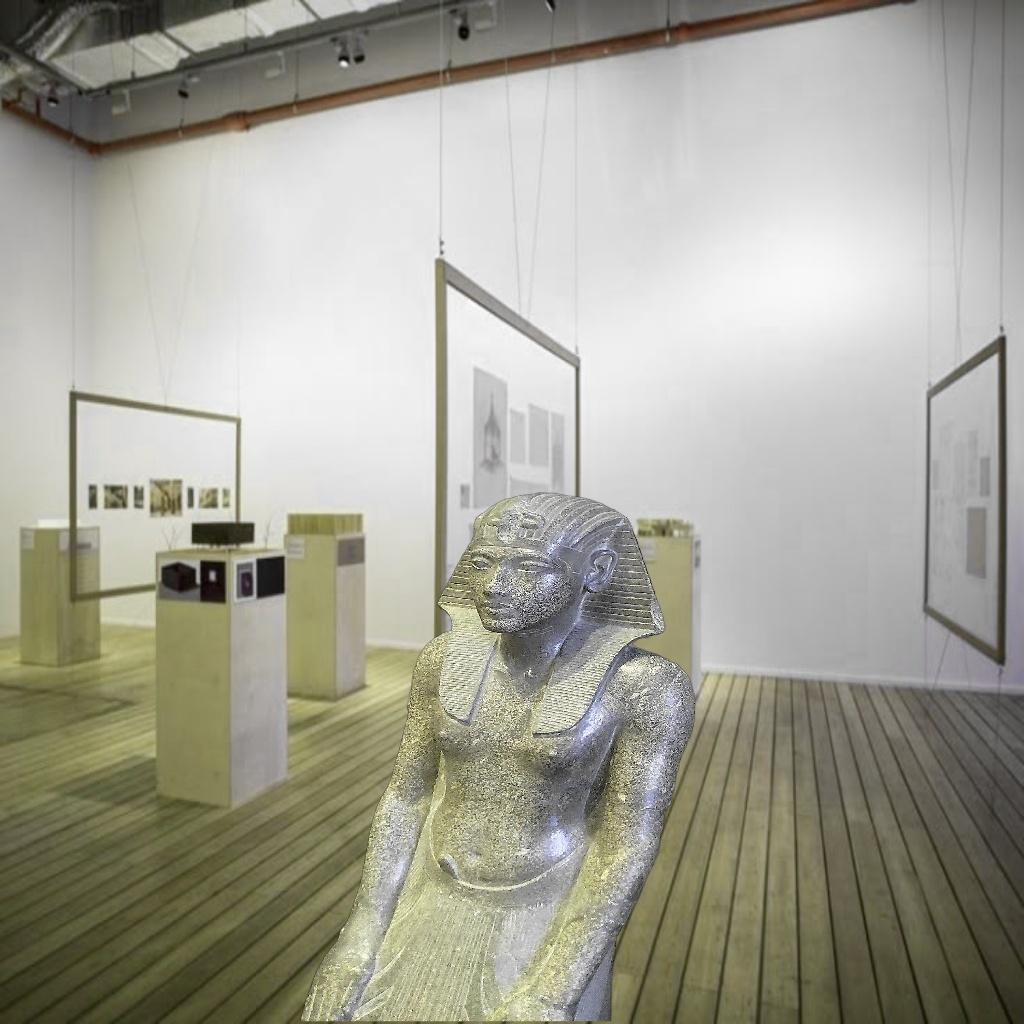Granite Statue of Tutankhamun: (298, 488, 698, 1022)
